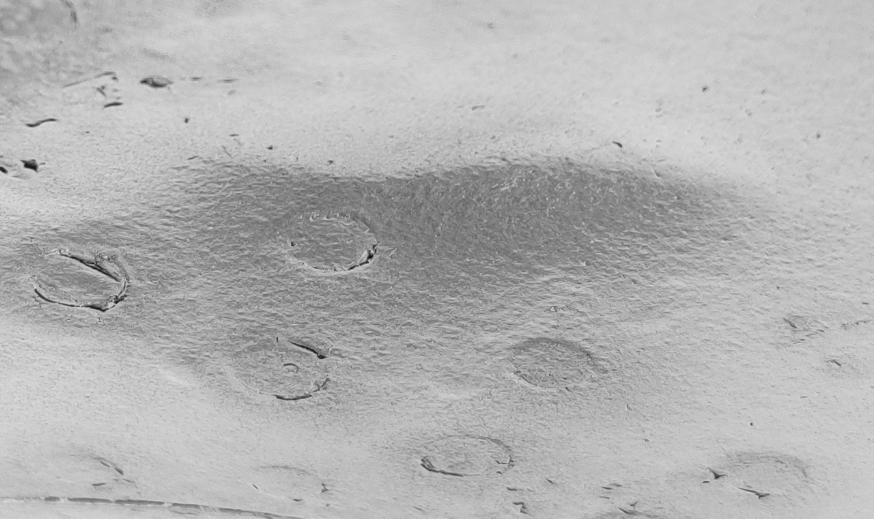dent: (1, 1, 874, 519)
